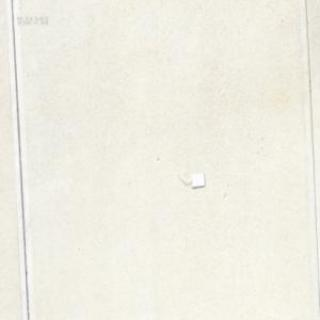LuggageTagtrack_idkeyframe: (176, 170, 204, 188)
